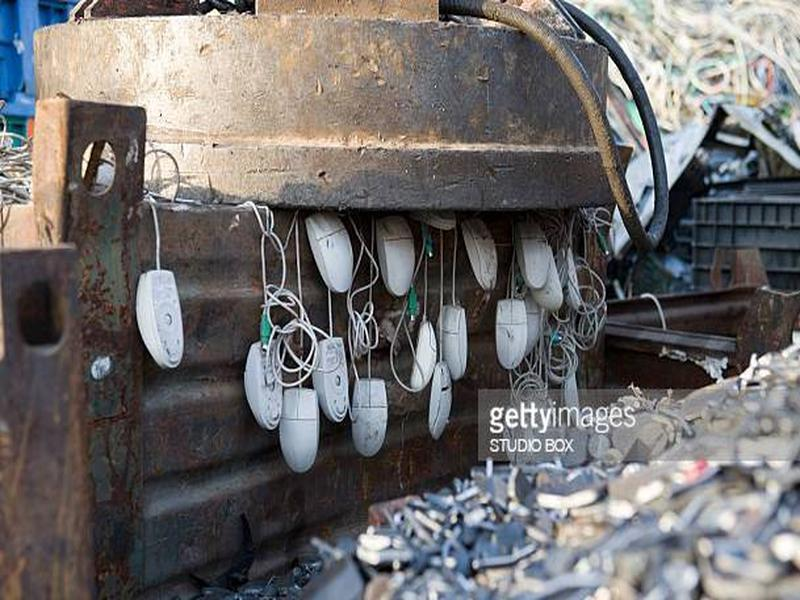mouse: (132, 267, 195, 370), (299, 211, 363, 298), (308, 328, 358, 424), (238, 338, 289, 432), (373, 215, 427, 303), (280, 386, 328, 477), (487, 298, 536, 372), (423, 357, 464, 445), (432, 298, 474, 383), (349, 376, 391, 460)
